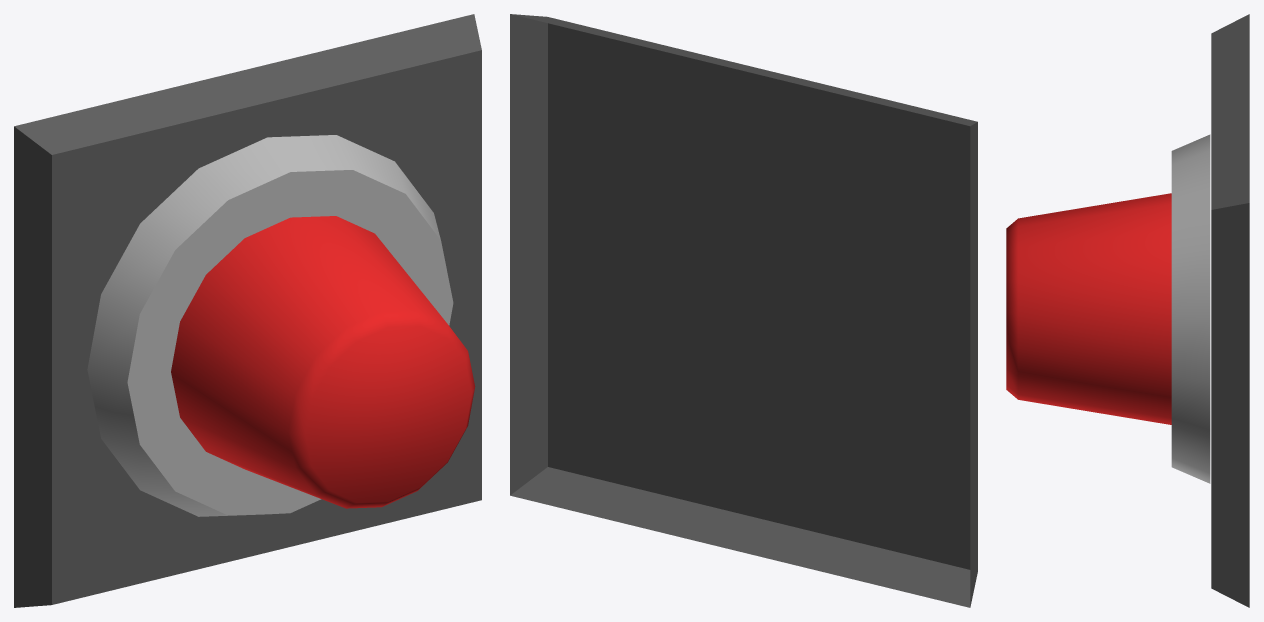
File: panicLight.fbx
3 views of the same model, side by side, from view 1: azimuth 30°, elevation 25°; view 2: azimuth 150°, elevation 25°; view 3: azimuth 270°, elevation 25° (orthographic). The views are drawn at different scales.
Visible parts, largest first — view 1: Panic Light; view 2: Panic Light; view 3: Panic Light.
Part boxes in pixels (bbox=[...]): Panic Light: bbox=[14, 14, 481, 607]; Panic Light: bbox=[510, 14, 977, 607]; Panic Light: bbox=[1006, 14, 1249, 607].
Size of the model in its own units: 47.56 by 25.86 by 47.56.
